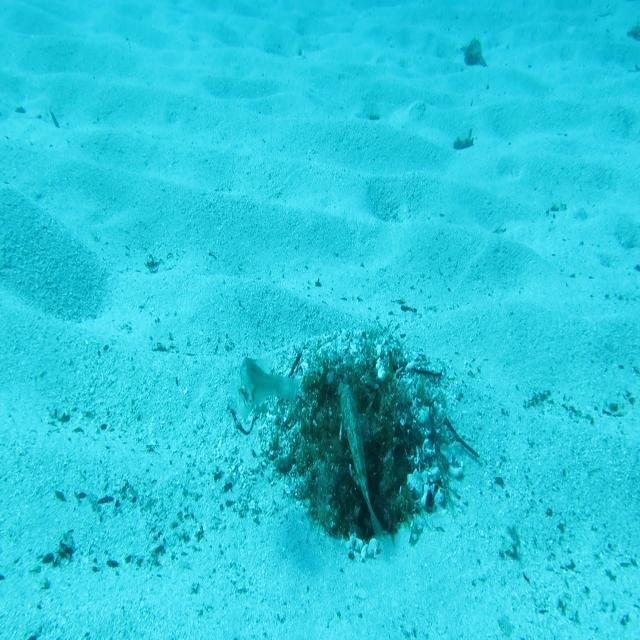ROLL: (336, 379, 386, 544)
core_nest: (329, 379, 378, 422)
female: (232, 351, 302, 423)
nest: (252, 316, 474, 572)
vegetation: (459, 38, 488, 70), (453, 127, 477, 155), (626, 20, 640, 41)
